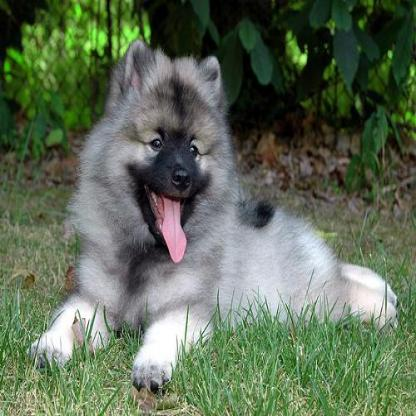keeshond: (22, 33, 397, 396)
